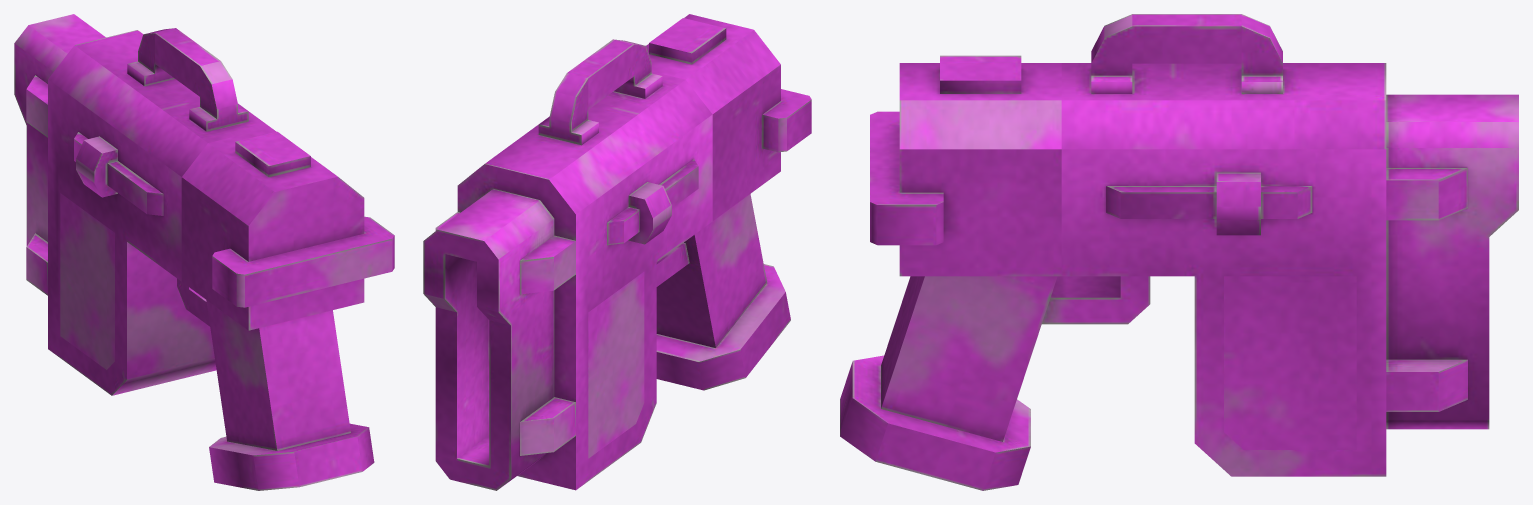
File: blaster-k.glb
3 views of the same model, side by side, from view 1: azimuth 30°, elevation 25°; view 2: azimuth 150°, elevation 25°; view 3: azimuth 270°, elevation 25° (orthographic). The views are drawn at different scales.
Parts seen in each view (by area): view 1: blaster-k; view 2: blaster-k; view 3: blaster-k.
Boxes of the visible parts, x1,y1,x2,y2 form: blaster-k: (14, 14, 394, 490); blaster-k: (423, 14, 811, 490); blaster-k: (840, 14, 1518, 490).
Size of the model in its own units: 0.155 by 0.3338 by 0.4604.
Materials: 1 (1 with a texture image).
